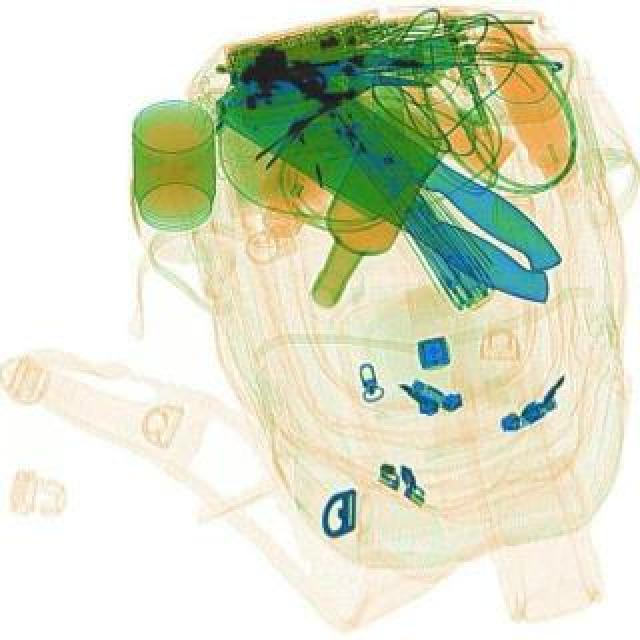knife: (208, 36, 596, 322), (208, 44, 578, 322)
